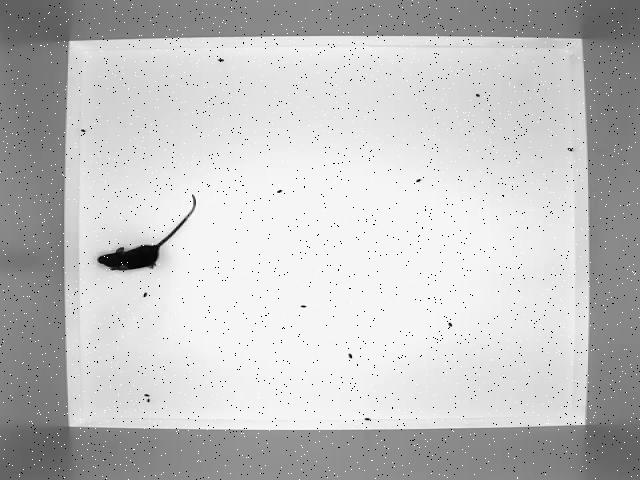Tikus: (95, 190, 212, 275)
